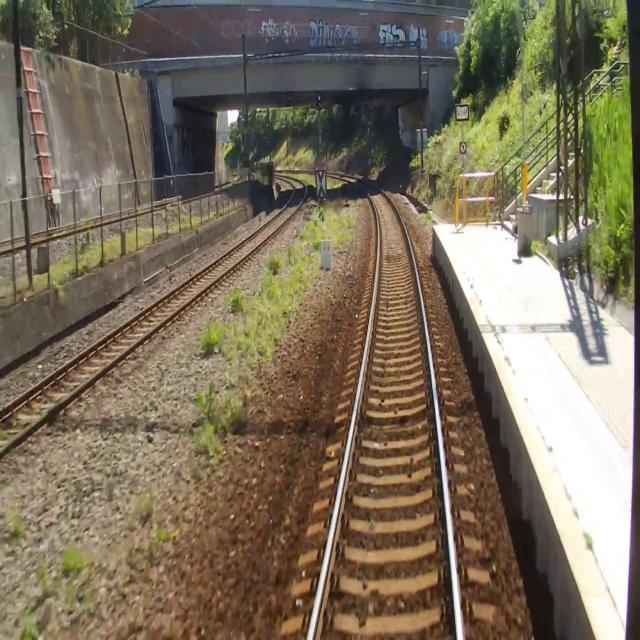rail-track: (0, 175, 305, 448), (311, 172, 458, 639)
